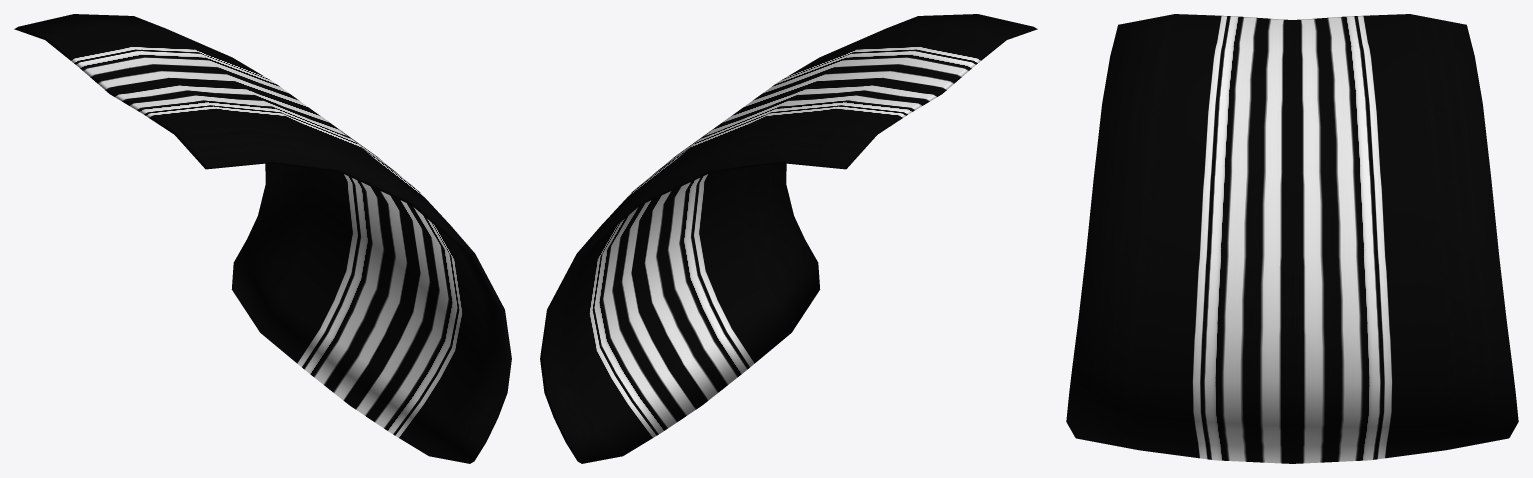
The model's file is geisha_levre.gltf.
3 renders of one model, left to right at view 1: azimuth 30°, elevation 25°; view 2: azimuth 150°, elevation 25°; view 3: azimuth 270°, elevation 25°, orthographic. The views are drawn at different scales.
Parts seen in each view (by area): view 1: Plane.007; view 2: Plane.007; view 3: Plane.007.
Part boxes in pixels (bbox=[...]): Plane.007: bbox=[14, 14, 511, 463]; Plane.007: bbox=[540, 14, 1037, 463]; Plane.007: bbox=[1066, 14, 1518, 463].
Bounding box in the file's own units: 0.8908 × 1.04 × 1.24.
Materials: 1 (1 with a texture image).
